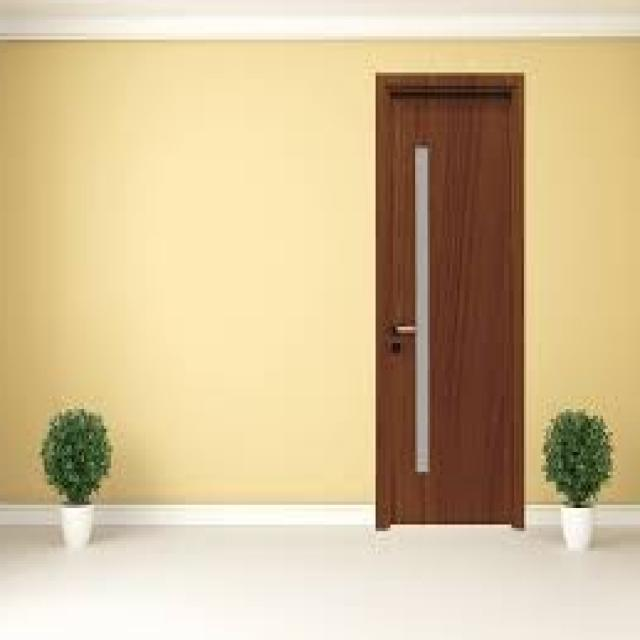door: (374, 71, 525, 529)
